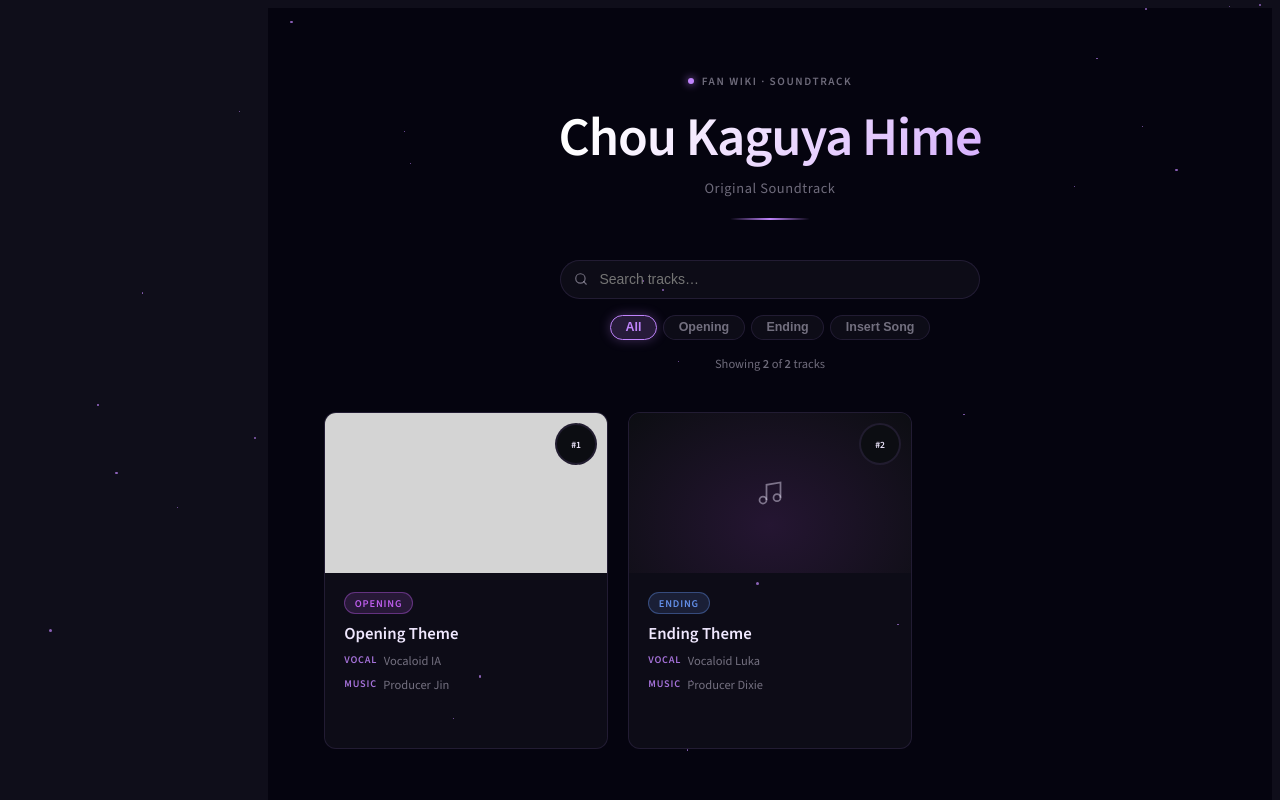
Test case: SoundtracksPage › shows no tracks message when filters produce no results
Expected: the heading "Opening Theme" is shown, left=344, top=622, right=458, bottom=644
Type "mismatching query" into the field with placeholder "Search tracks…" at coordinates (770, 279), box left=560, top=260, right=980, bottom=299
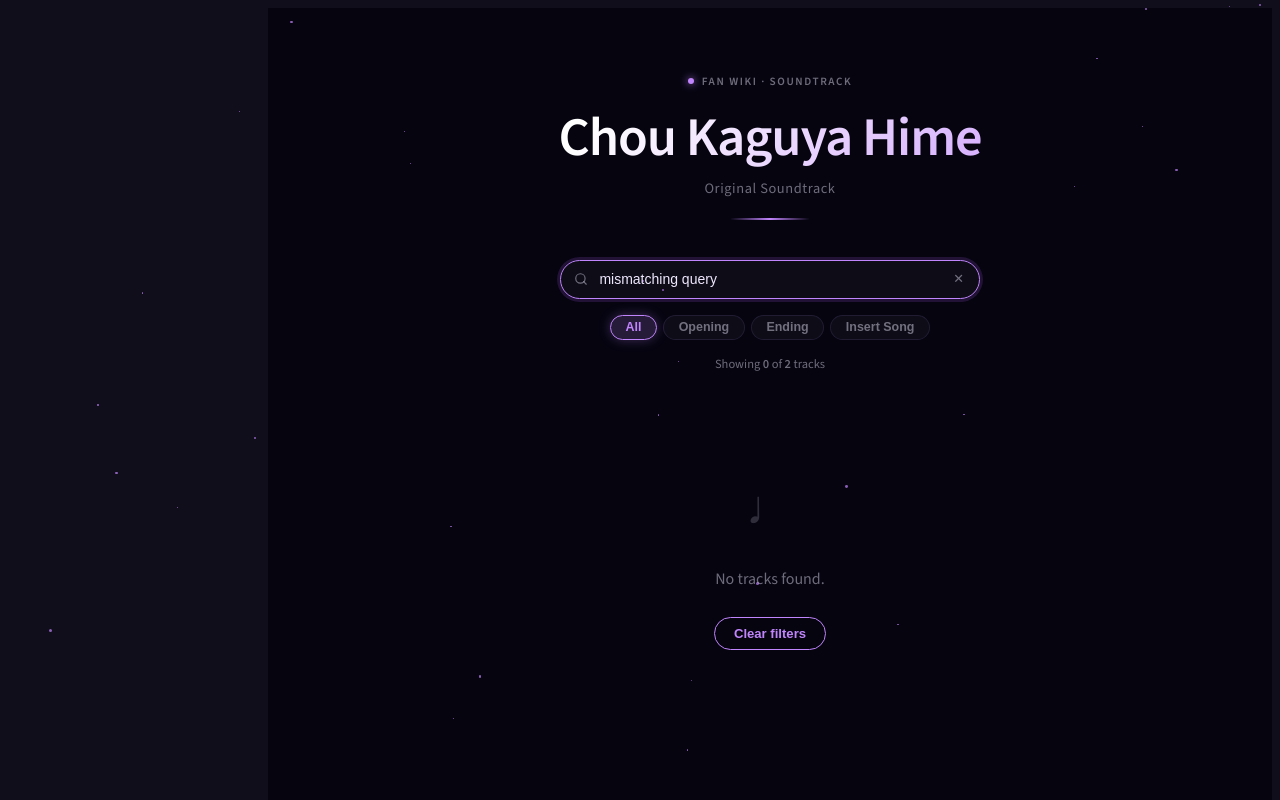
Now the text "No tracks found." is shown, box left=715, top=568, right=825, bottom=589
Note: Clicking "Clear filters" should reset input
Click the button "Clear filters" at coordinates (770, 634), box left=714, top=617, right=826, bottom=650
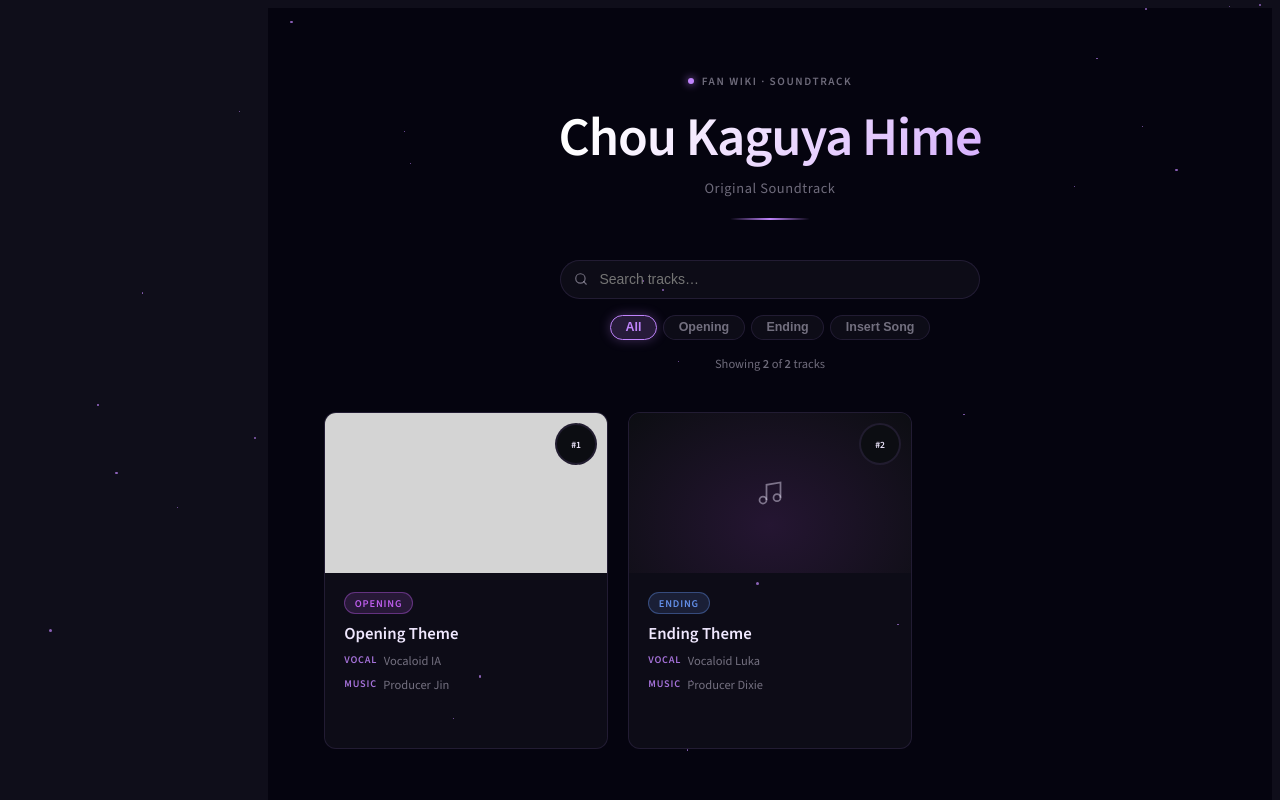
Now the heading "Opening Theme" is shown, box left=344, top=622, right=458, bottom=644
Now the heading "Ending Theme" is shown, box left=648, top=622, right=752, bottom=644
